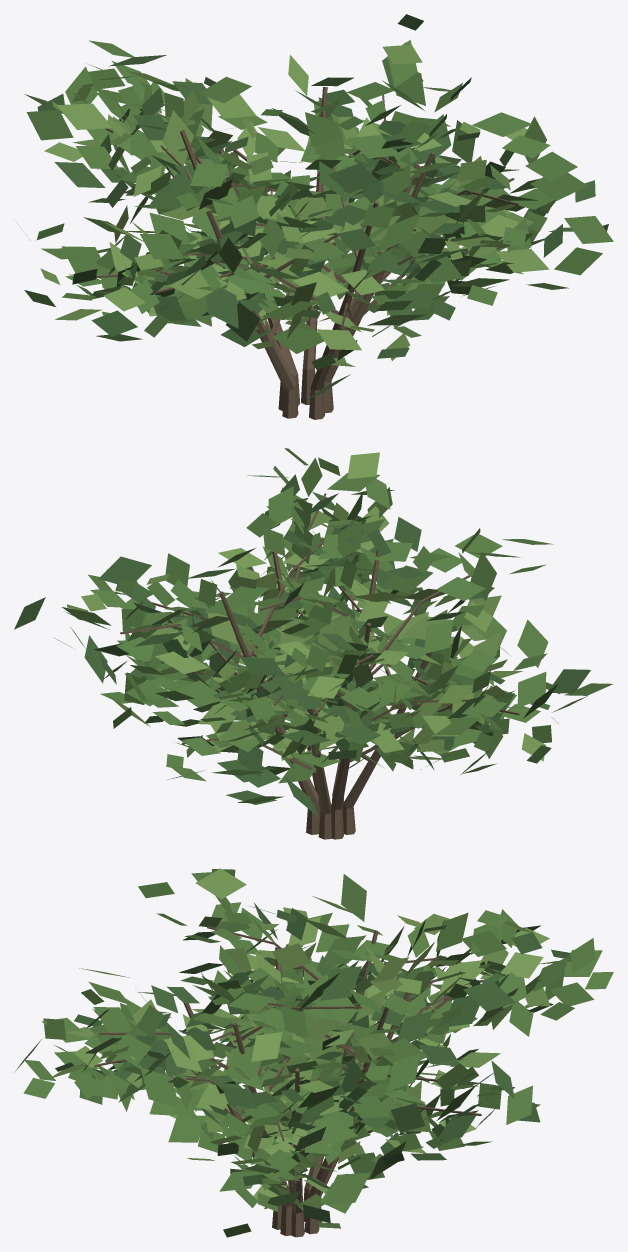
Rendered from original-shrub.glb.
The picture shows the model from 3 angles, top to bottom: view 1: azimuth 30°, elevation 25°; view 2: azimuth 150°, elevation 25°; view 3: azimuth 270°, elevation 25°; orthographic projection. The views are drawn at different scales.
Visible parts, largest first — view 1: original-shrub; view 2: original-shrub; view 3: original-shrub.
Part boxes in pixels (box(x1,y1,x2,y2)): original-shrub: box(17, 14, 613, 419); original-shrub: box(14, 448, 612, 839); original-shrub: box(14, 868, 613, 1237).
Bounding box in the file's own units: 0.9 × 0.5 × 0.9.
